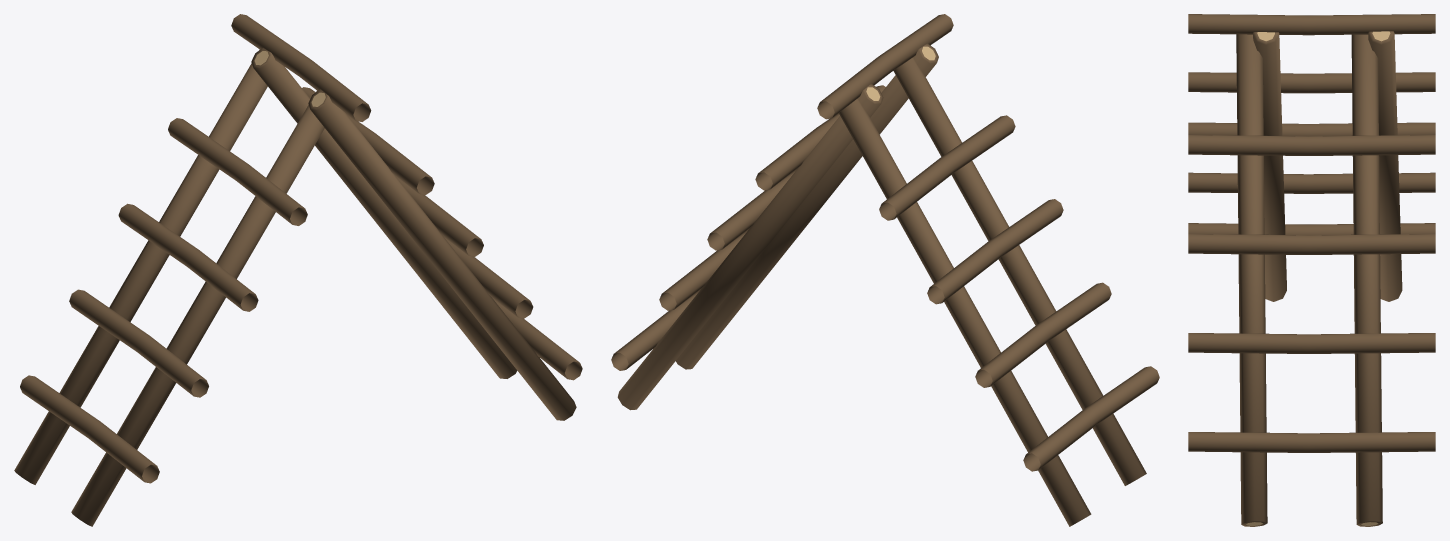
The model's file is rpgpp_ag_roof_support_01_6x5x3.fbx.
3 views of the same model, side by side, from view 1: azimuth 30°, elevation 25°; view 2: azimuth 150°, elevation 25°; view 3: azimuth 270°, elevation 25° (orthographic). The views are drawn at different scales.
Visible parts, largest first — view 1: rpgpp_ag_roof_support_01_6x5x3; view 2: rpgpp_ag_roof_support_01_6x5x3; view 3: rpgpp_ag_roof_support_01_6x5x3.
Boxes of the visible parts, box(x1,y1,x2,y2) form: rpgpp_ag_roof_support_01_6x5x3: box(14, 14, 582, 526); rpgpp_ag_roof_support_01_6x5x3: box(611, 14, 1159, 526); rpgpp_ag_roof_support_01_6x5x3: box(1188, 14, 1435, 526).
Bounding box in the file's own units: 6.98 × 5.37 × 3.
